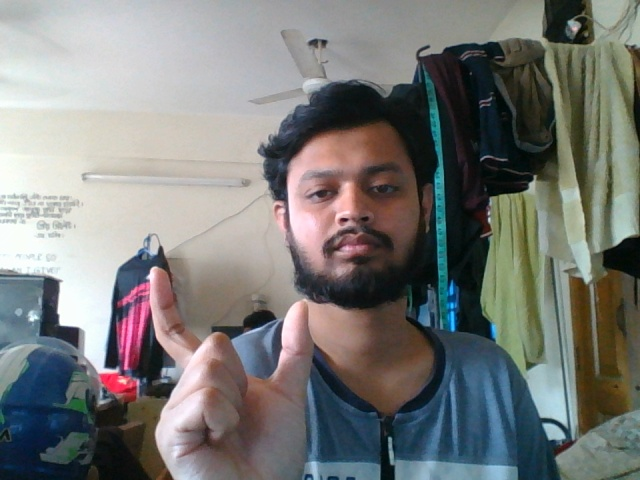chandrobindu: (131, 261, 322, 480)
